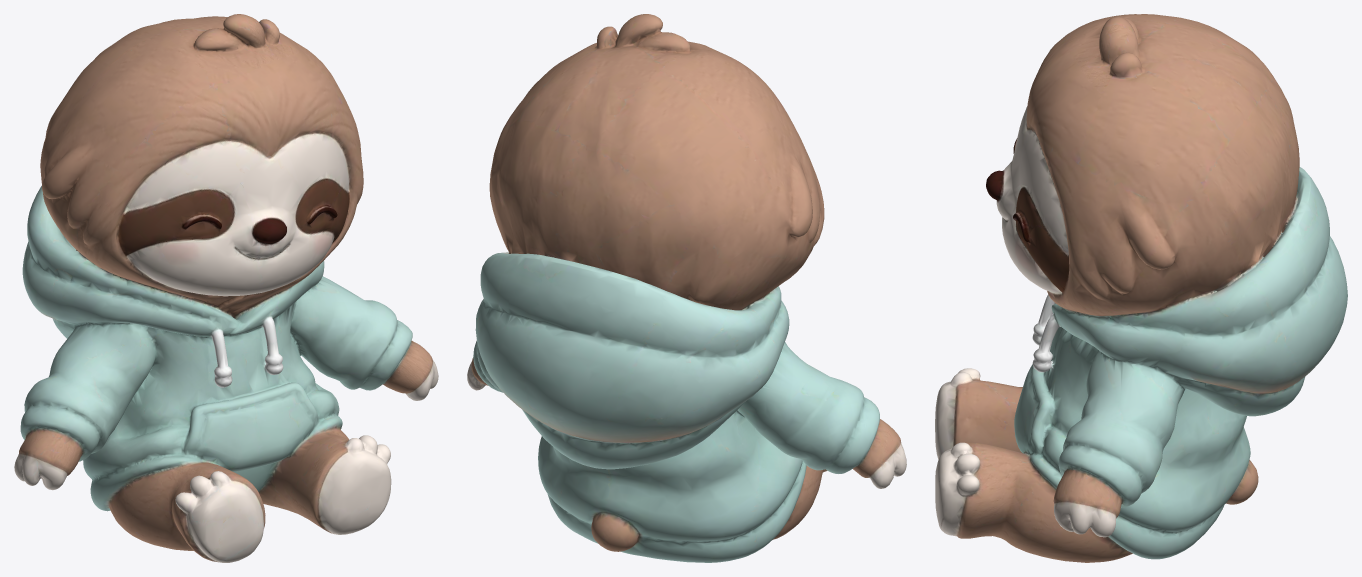
The model's file is sloth-optimized.glb.
3 views of the same model, side by side, from view 1: azimuth 30°, elevation 25°; view 2: azimuth 150°, elevation 25°; view 3: azimuth 270°, elevation 25° (orthographic). The views are drawn at different scales.
Size of the model in its own units: 1.68 by 1.9 by 1.38.
1 material, 1 textured.
